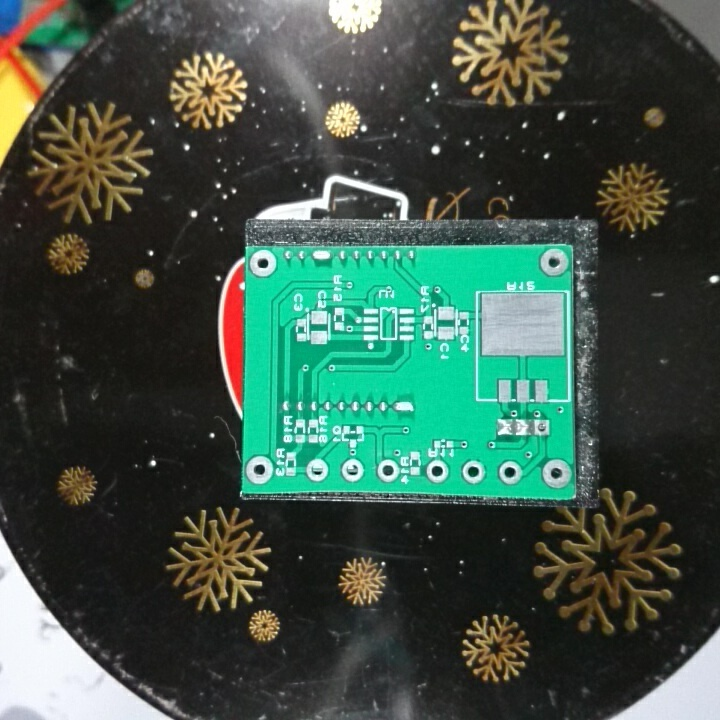F: (537, 246, 569, 280), (244, 452, 275, 487), (248, 248, 279, 280), (542, 458, 572, 491), (460, 458, 489, 487), (496, 460, 526, 488), (339, 456, 366, 486), (304, 456, 331, 486), (424, 459, 451, 486), (376, 458, 399, 485), (531, 417, 553, 438)
P: (392, 398, 417, 417), (310, 247, 333, 267)
